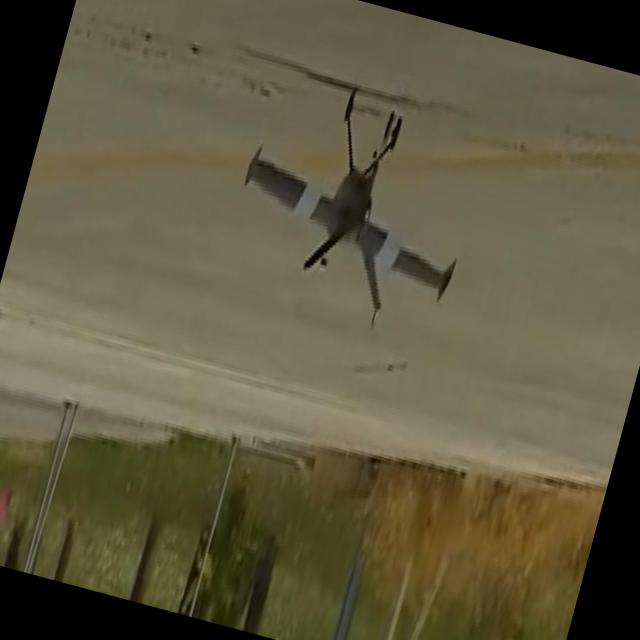UAV: (218, 70, 491, 334)
